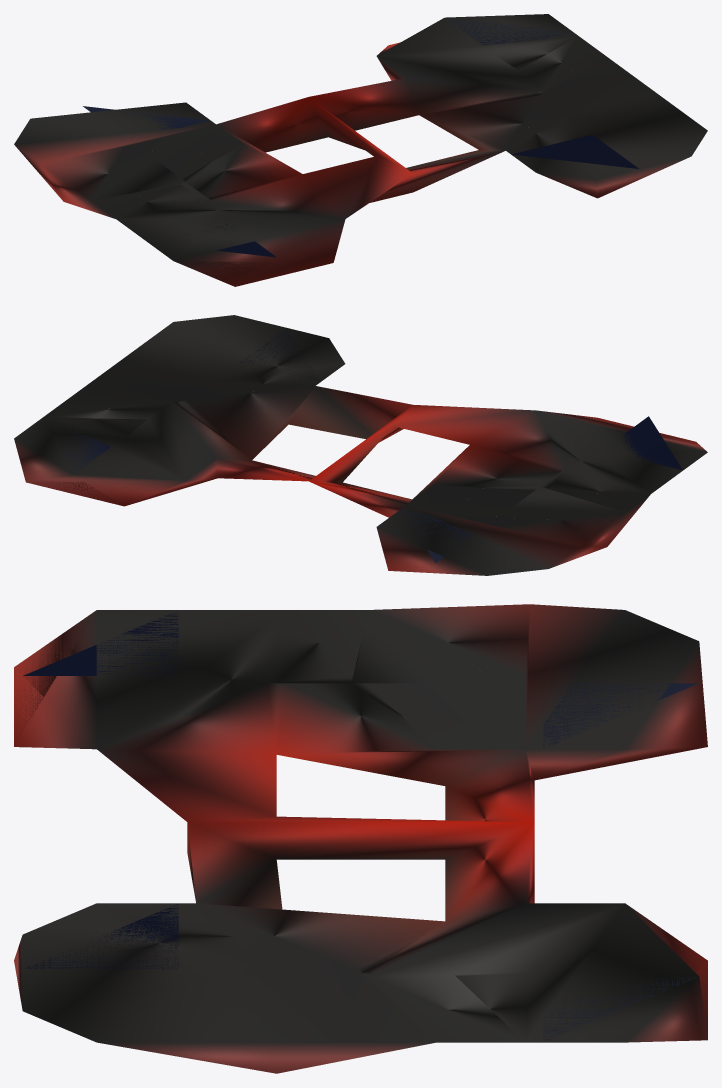
The model's file is solar_panel_lod4.glb.
The picture shows the model from 3 angles, top to bottom: view 1: azimuth 30°, elevation 25°; view 2: azimuth 150°, elevation 25°; view 3: azimuth 270°, elevation 25°; orthographic projection. The views are drawn at different scales.
Parts seen in each view (by area): view 1: solar_panel; view 2: solar_panel; view 3: solar_panel.
Part boxes in pixels (bbox=[...]): solar_panel: bbox=[14, 14, 707, 286]; solar_panel: bbox=[14, 315, 707, 575]; solar_panel: bbox=[14, 604, 707, 1073].
Size of the model in its own units: 6 by 0.225 by 4.
